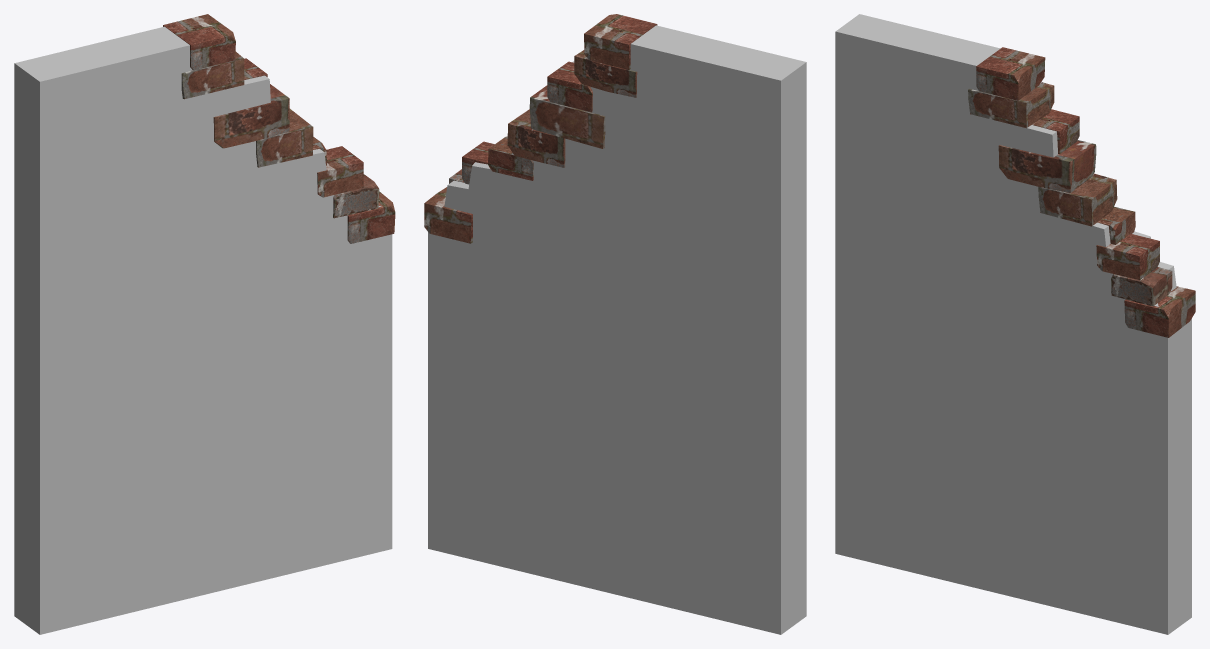
File: SM_Wall_Ruined_16.fbx
3 renders of one model, left to right at view 1: azimuth 30°, elevation 25°; view 2: azimuth 150°, elevation 25°; view 3: azimuth 330°, elevation 25°, orthographic. The views are drawn at different scales.
Parts seen in each view (by area): view 1: SM_Wall_Ruined_16_LOD0; view 2: SM_Wall_Ruined_16_LOD0; view 3: SM_Wall_Ruined_16_LOD0.
Part boxes in pixels (bbox=[...]): SM_Wall_Ruined_16_LOD0: bbox=[14, 14, 395, 634]; SM_Wall_Ruined_16_LOD0: bbox=[424, 14, 806, 634]; SM_Wall_Ruined_16_LOD0: bbox=[835, 14, 1195, 634].
Size of what is drawn, in the model's own units: 402 by 601 by 57.54.
